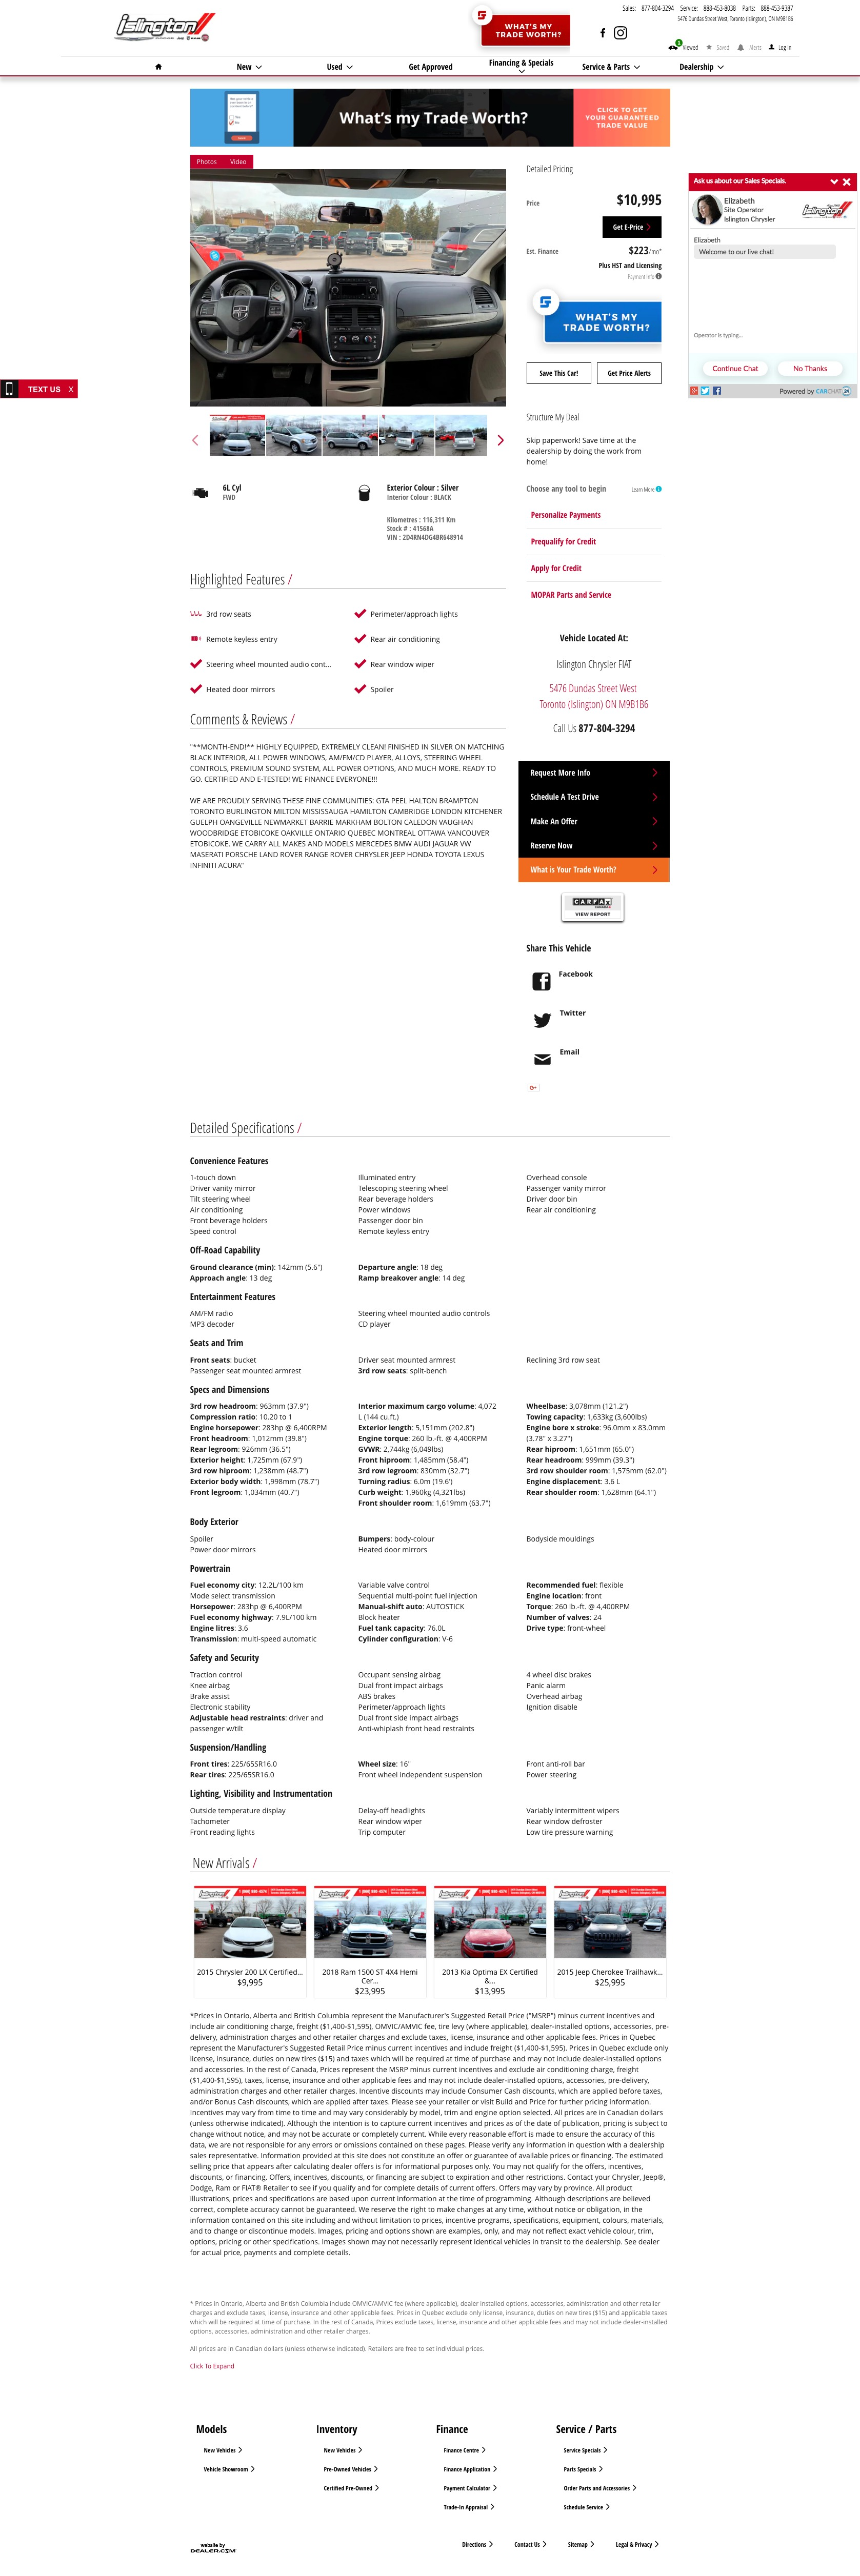car: (498, 435, 505, 445)
